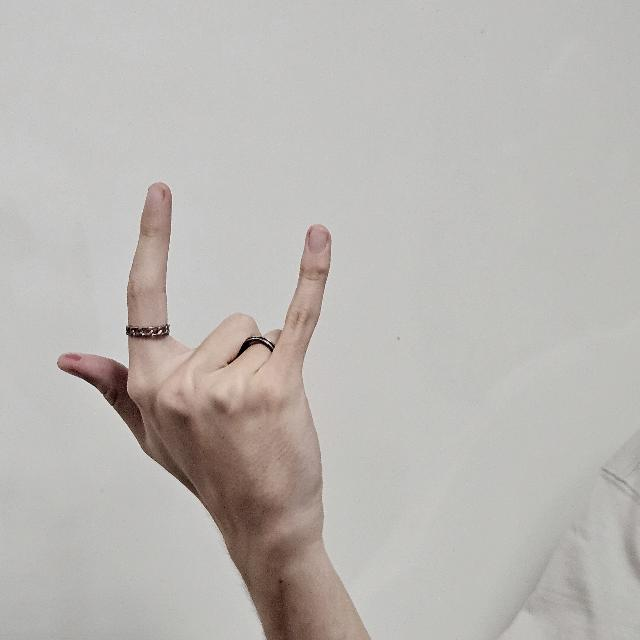Cima: (54, 182, 332, 574)
